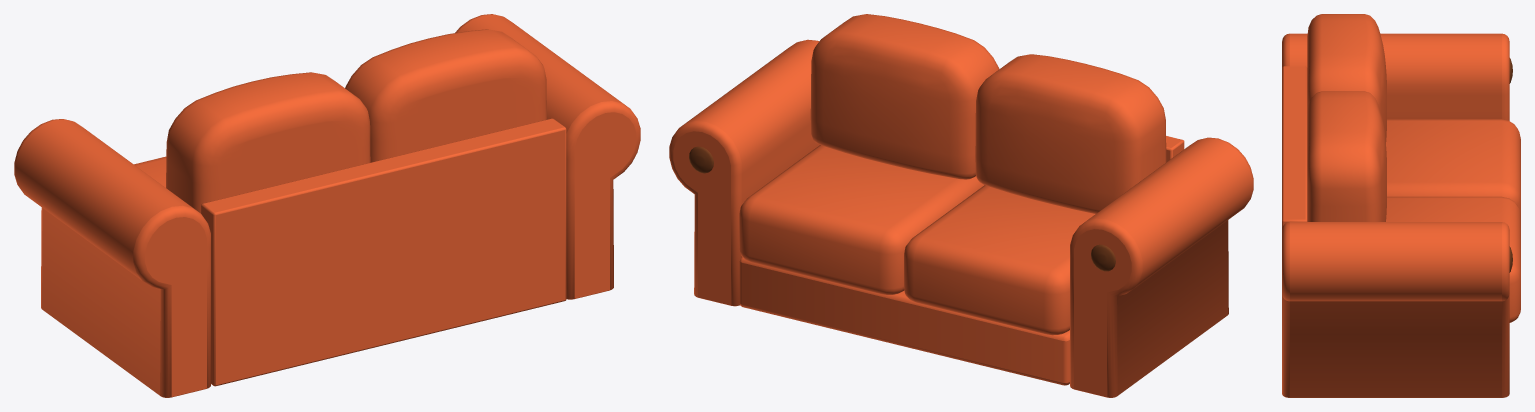
The model's file is Couch.glb.
3 renders of one model, left to right at view 1: azimuth 30°, elevation 25°; view 2: azimuth 150°, elevation 25°; view 3: azimuth 270°, elevation 25°, orthographic. The views are drawn at different scales.
Parts seen in each view (by area): view 1: Couch2; view 2: Couch2; view 3: Couch2.
Boxes of the visible parts, box(x1,y1,x2,y2) form: Couch2: box(14, 14, 640, 397); Couch2: box(669, 14, 1253, 397); Couch2: box(1282, 14, 1520, 397).
Size of the model in its own units: 2.56 by 1.2 by 1.16.
Materials: 1 (1 with a texture image).
